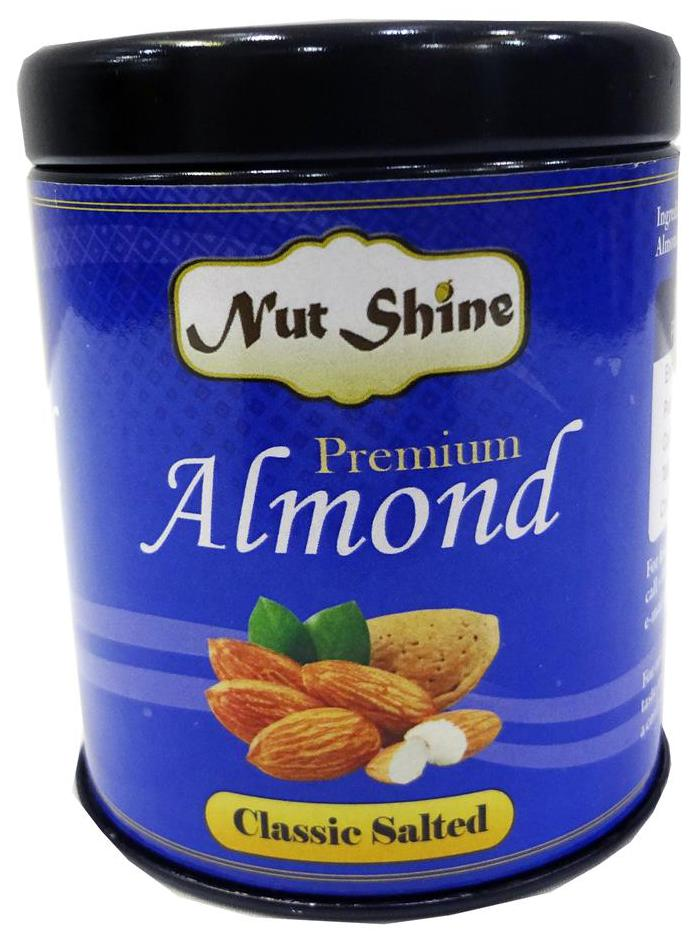JAR: (9, 11, 690, 928)
